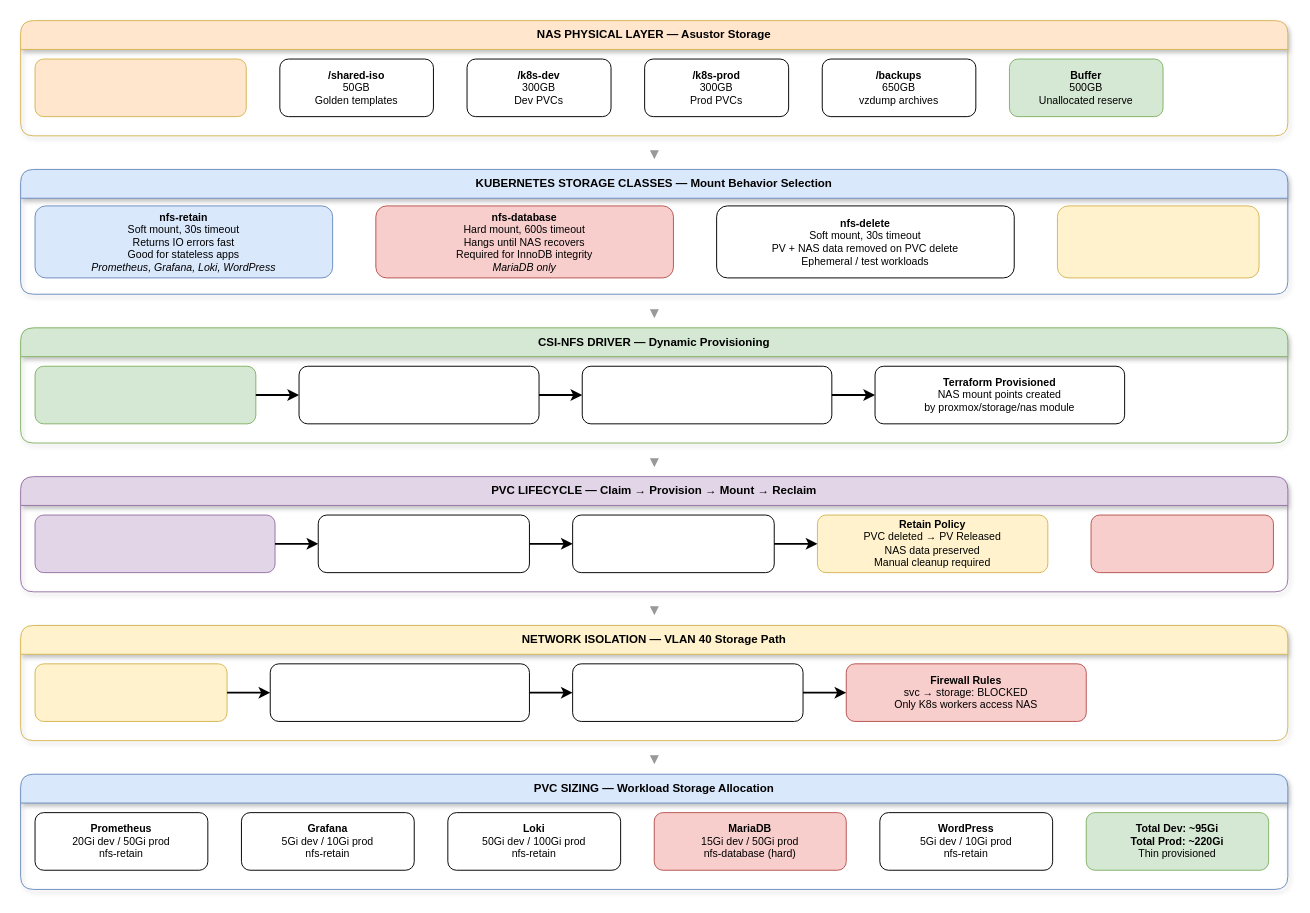
Image size: 1310x913. Some labels were removed from this diagram. Each missing label, with the centre of its shape:
"Asustor NAS 1.8TB total capacity RAID1 mirrored disks" belongs at point 140,87.
"CSI Controller Provisions PVs on demand Creates NFS subdirectories" belongs at point 418,394.
"Immutable after create StatefulSet PVCs can't change StorageClass" belongs at point 1181,543.
"Mount Path NAS:10.0.40.4 → VLAN 40 Worker 2nd NIC (storage-only)" belongs at point 706,394.
"NAS: 10.0.40.4 NFS exports on VLAN 40 Direct L2 path to workers" belongs at point 687,692.
"NFS CSI DaemonSet Runs on all K8s nodes HelmRelease via Flux" belongs at point 145,394.
"NFSv3 Pinned nfsvers=3, nolock v4.2 lock manager flaky across VLANs" belongs at point 1157,241.
"Pod Mount kubelet mounts NFS via CSI node plugin" belongs at point 673,543.
"PV Provisioned CSI creates NFS subdir on NAS volume" belongs at point 423,543.
"PVC Created StatefulSet volumeClaimTemplate or standalone PVC" belongs at point 154,543.
"VLAN 40 (Storage) L2 isolated 10.0.40.0/24" belongs at point 130,692.
"Worker 2nd NIC Dedicated storage NIC Bypasses hypervisor in data path" belongs at point 399,692.
